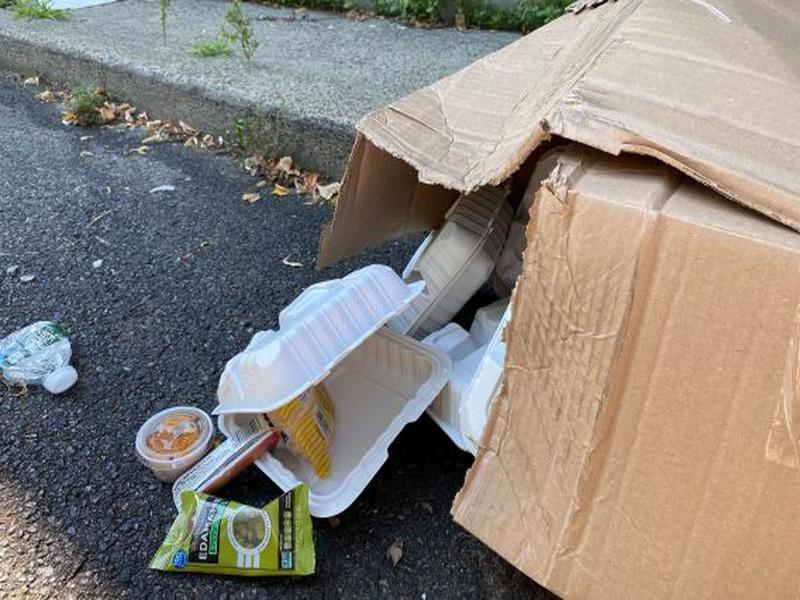bottle: (1, 316, 83, 400)
cardboard: (315, 1, 800, 600)
plastic: (146, 483, 327, 582)
